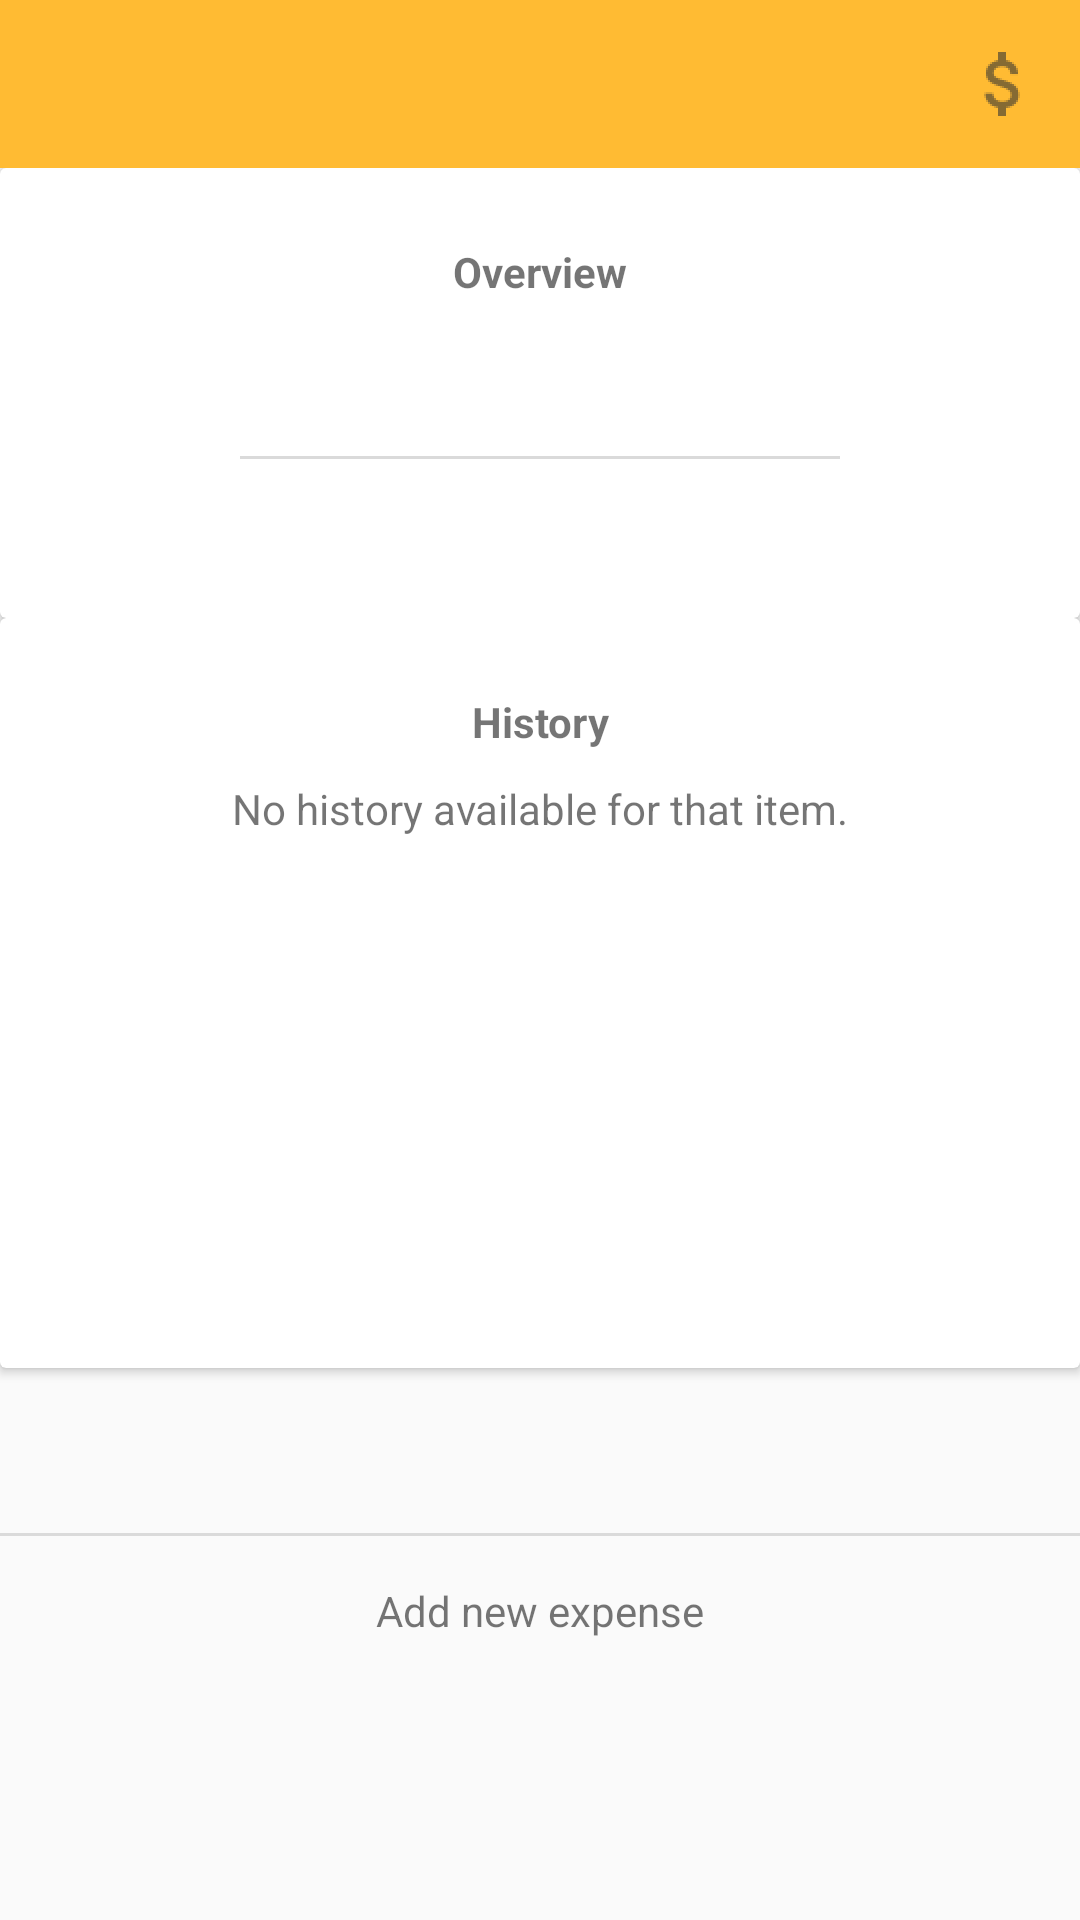

Named icons in this screenshot (1080×1920) and their bounding boxes, (x1, y1, x2, y2):
Make a new savings goal deposit: (984, 52, 1020, 116)
